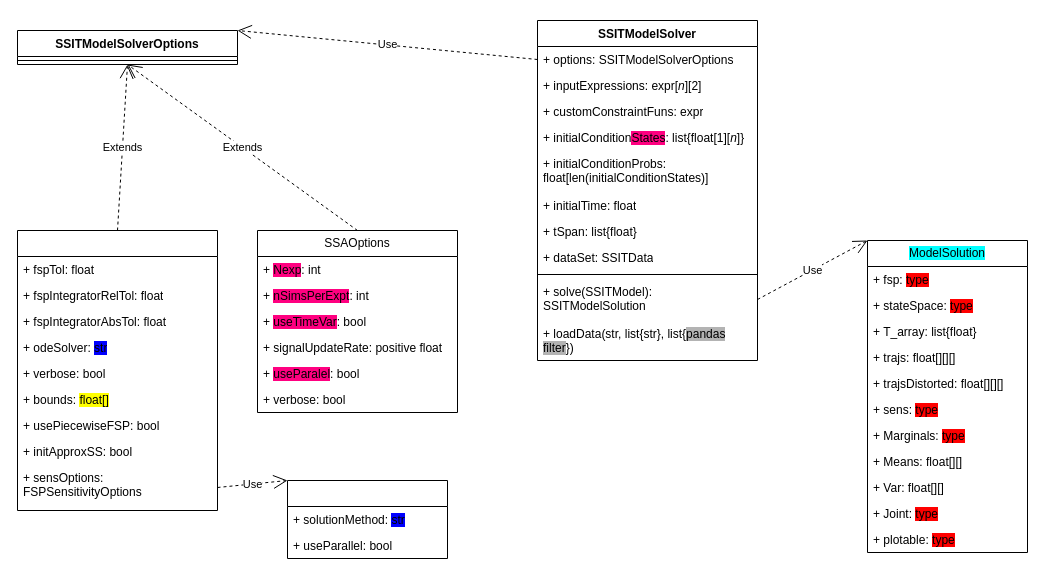
This 1045x579 diagram has some shape labels left out. Each missing label, with the box of its shape:
FSPOptions: (16, 230, 218, 510)
FSPSensitivityOptions: (286, 480, 448, 558)
